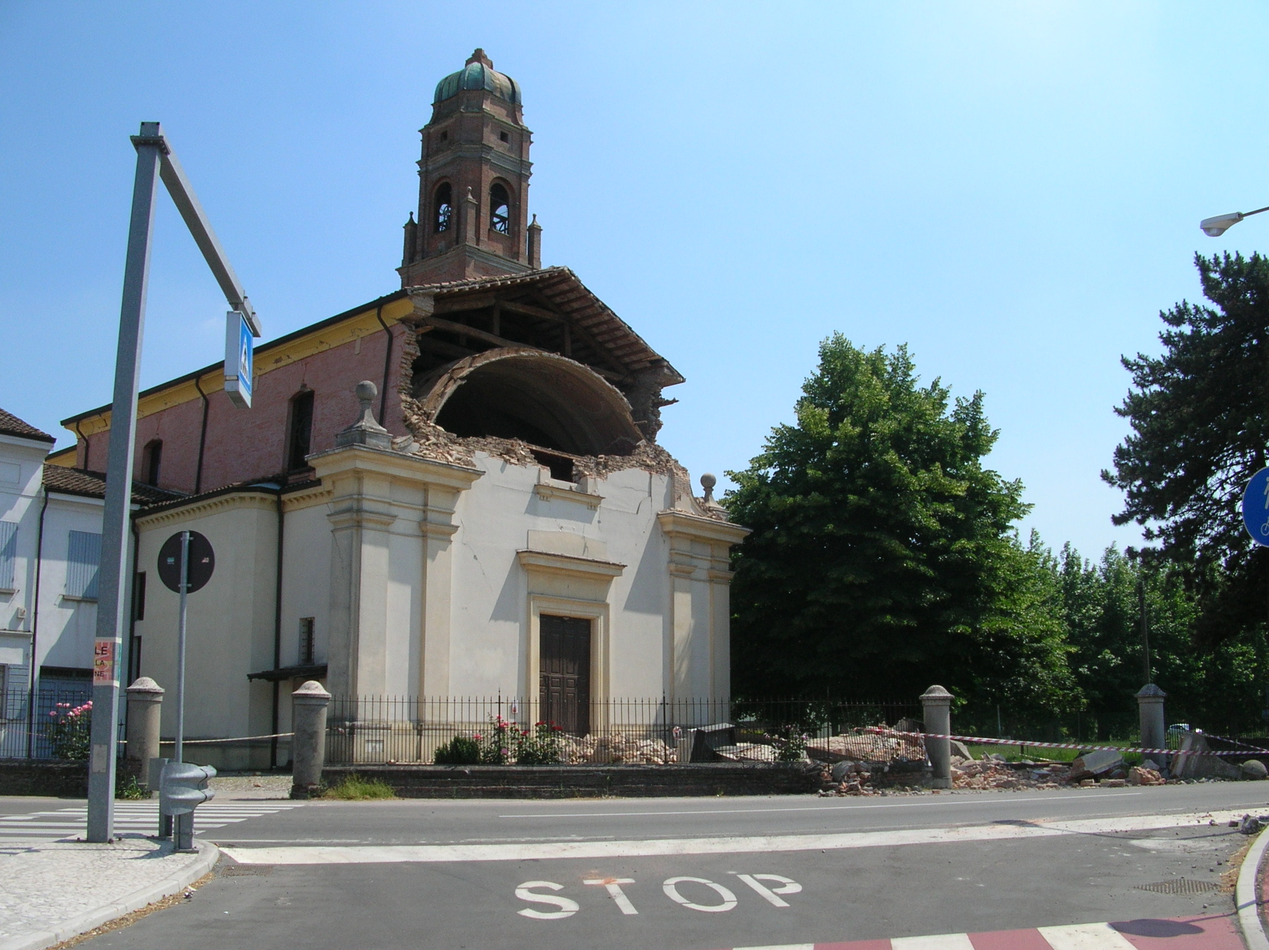Crack: (84, 299, 413, 436), (486, 457, 657, 564), (435, 504, 512, 619), (316, 475, 353, 576), (296, 355, 313, 394), (154, 411, 166, 440)
Debris: (948, 726, 1267, 795), (533, 716, 925, 763), (815, 757, 943, 799), (247, 767, 267, 791)
Other damage/mechanism: (397, 312, 671, 496), (417, 275, 667, 388)
